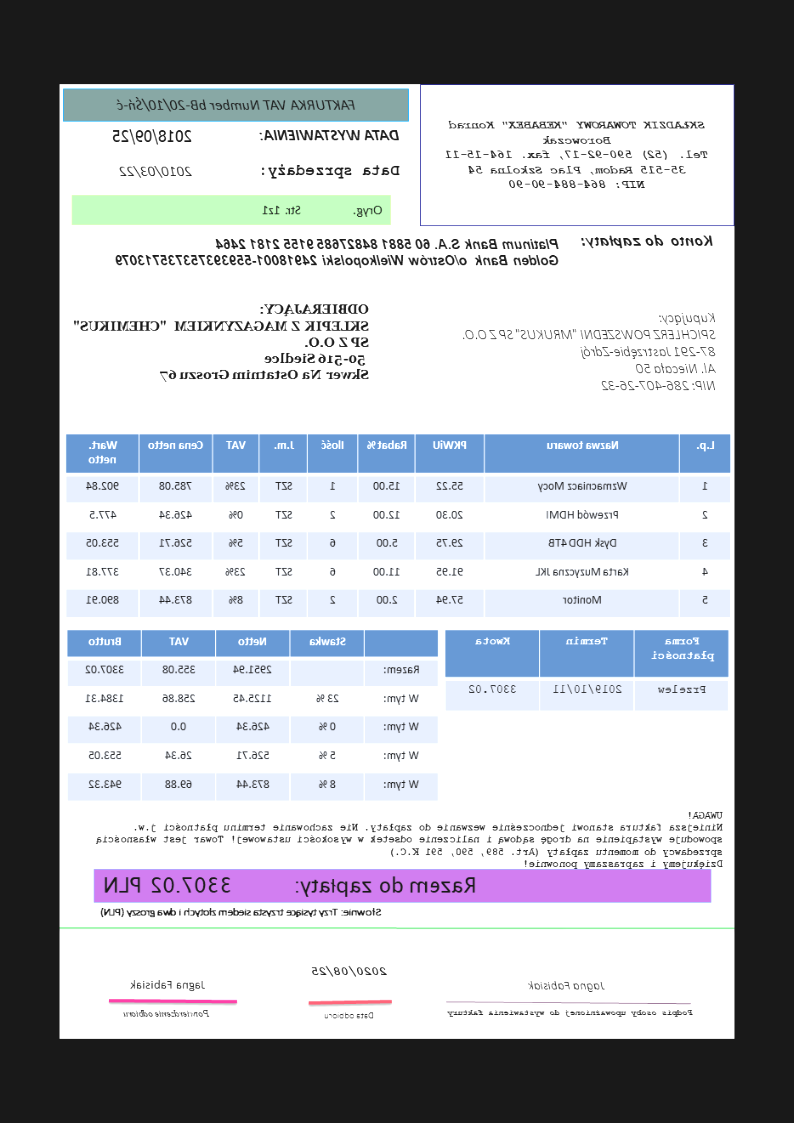Table: (65, 432, 733, 617), (66, 629, 439, 802), (444, 627, 731, 713)
TextBox: (95, 809, 725, 871), (73, 302, 371, 383), (462, 309, 719, 393), (443, 117, 709, 191), (114, 235, 562, 269), (103, 872, 479, 899), (99, 904, 384, 921), (113, 96, 359, 114), (446, 1006, 695, 1019), (258, 161, 402, 181), (580, 232, 717, 252), (257, 127, 402, 144), (260, 202, 385, 219), (111, 126, 195, 145), (122, 1006, 212, 1020), (117, 164, 194, 179), (130, 978, 207, 992), (527, 979, 607, 992), (309, 965, 388, 978), (322, 1009, 377, 1022)
